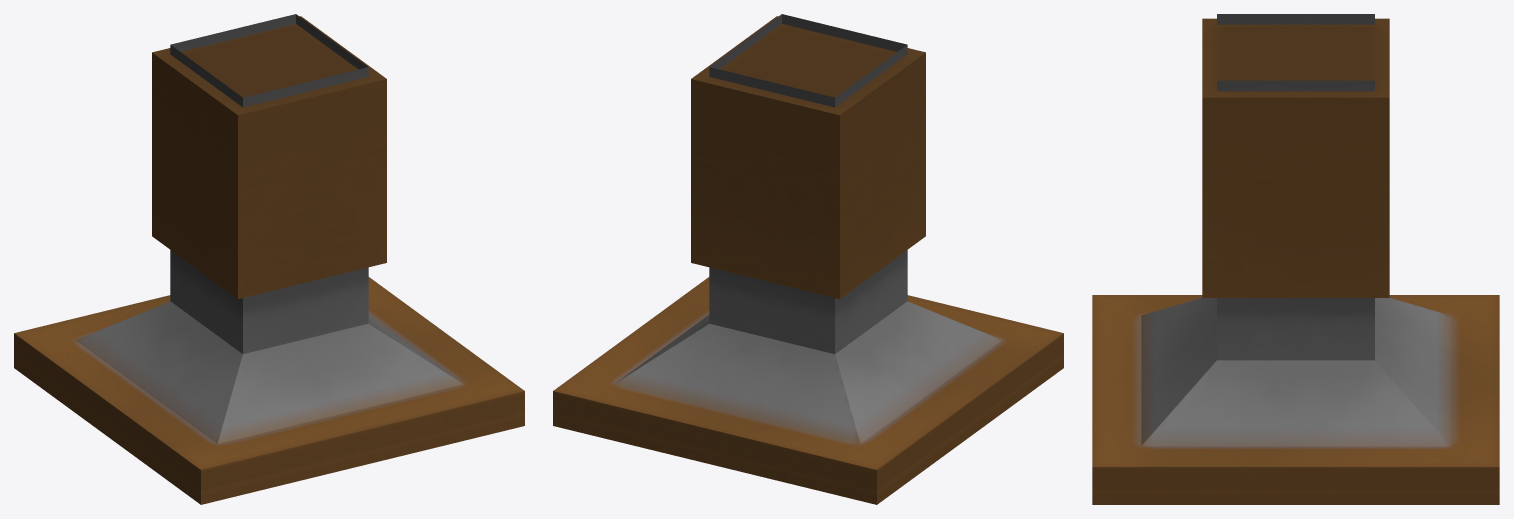
The model's file is Pont_Pied1A.FBX.
3 views of the same model, side by side, from view 1: azimuth 30°, elevation 25°; view 2: azimuth 150°, elevation 25°; view 3: azimuth 270°, elevation 25° (orthographic). The views are drawn at different scales.
Parts seen in each view (by area): view 1: Pont_Pied1A; view 2: Pont_Pied1A; view 3: Pont_Pied1A.
Part boxes in pixels (bbox=[...]): Pont_Pied1A: bbox=[14, 14, 524, 504]; Pont_Pied1A: bbox=[553, 14, 1063, 504]; Pont_Pied1A: bbox=[1092, 14, 1499, 504].
Size of the model in its own units: 1 by 1.01 by 1.
